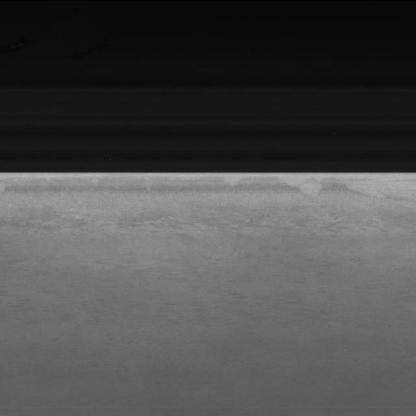silk_spot: (24, 211, 348, 246)
